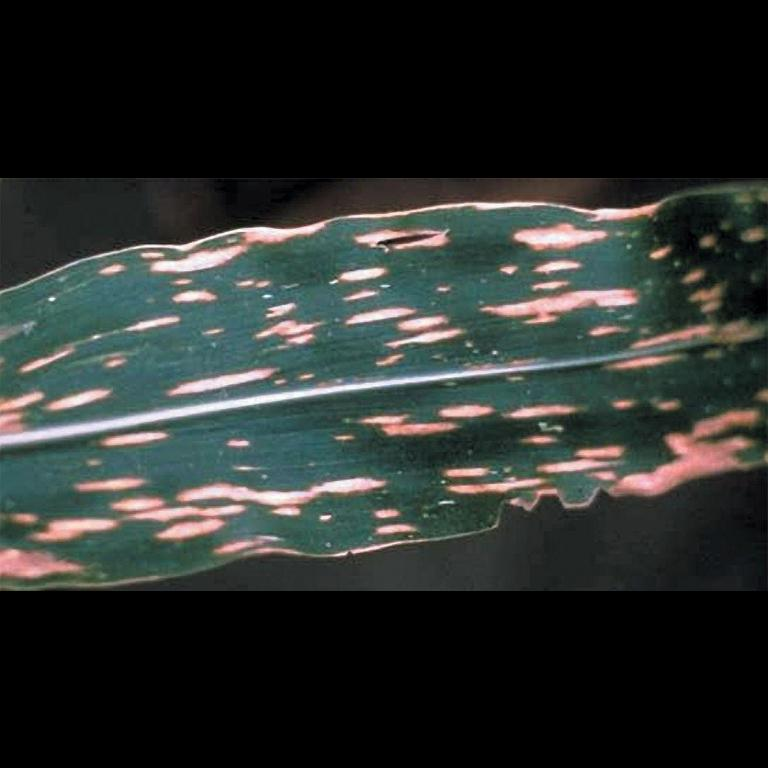blight: (28, 473, 332, 532)
